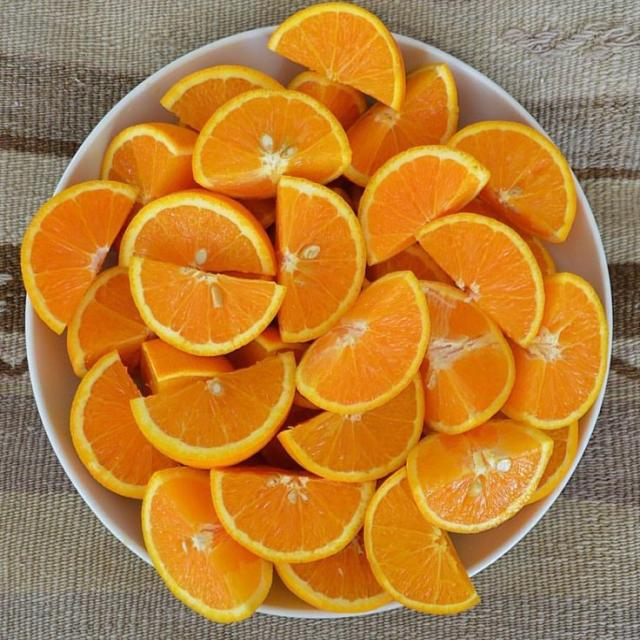orange: (142, 468, 272, 622), (297, 272, 429, 413), (132, 354, 295, 468), (21, 181, 137, 334), (194, 90, 351, 198), (365, 469, 479, 614), (407, 420, 553, 533), (419, 214, 544, 344), (503, 274, 608, 428), (211, 467, 374, 563), (359, 145, 488, 265), (279, 376, 425, 481), (71, 351, 175, 498), (130, 257, 284, 356), (449, 122, 576, 242), (276, 176, 366, 342), (268, 2, 406, 108), (421, 282, 514, 434), (346, 63, 458, 186), (120, 190, 275, 274), (67, 267, 153, 377), (276, 532, 391, 612), (160, 65, 282, 130), (100, 123, 197, 204), (464, 198, 556, 276), (140, 339, 233, 394), (288, 71, 366, 129), (528, 422, 579, 503), (227, 326, 306, 368), (367, 244, 451, 283), (521, 232, 556, 277), (280, 399, 319, 432), (240, 199, 275, 228), (329, 185, 353, 209), (294, 391, 321, 411), (349, 183, 364, 212)
